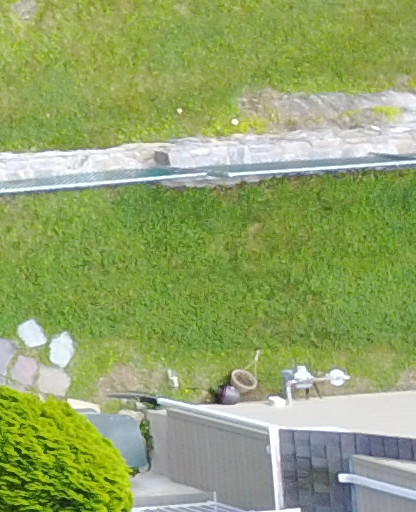flower pot: (229, 357, 263, 400), (221, 382, 242, 410)
gutter: (106, 380, 167, 400)
